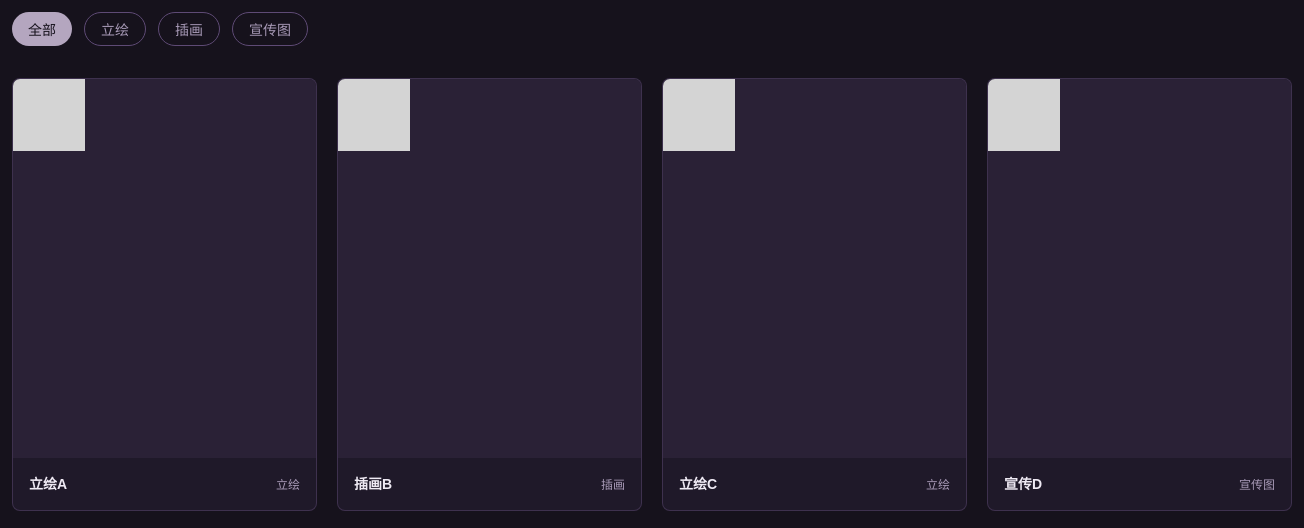
Test: AssetGallery 全幅化 › 分类筛选口径不变
Click the button "立绘" at coordinates (115, 29), box [84, 12, 146, 46]
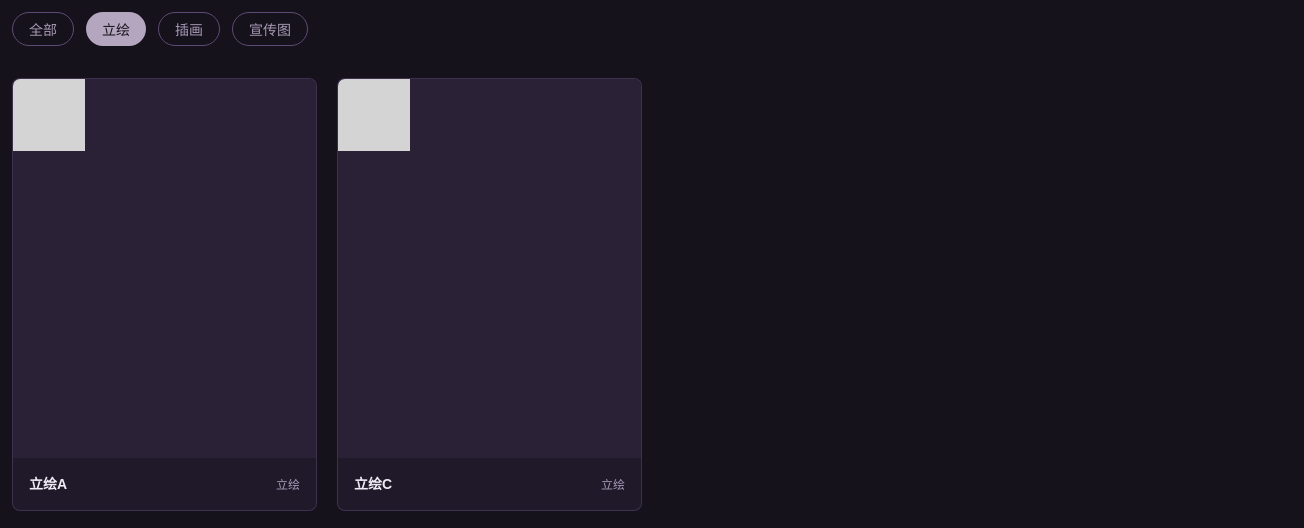
Expected: the text "立绘A" is shown, [29, 474, 67, 494]
Expected: the button "插画B" is gone
